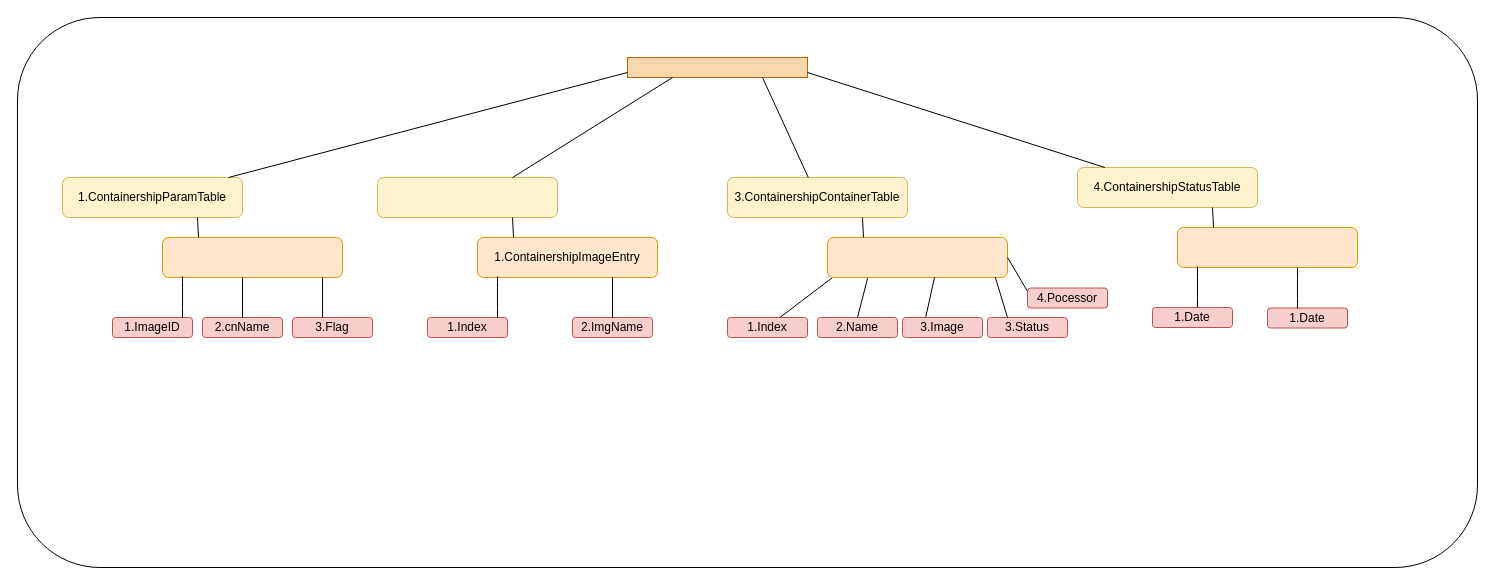
Image size: 1495x585. Some labels were removed from this diagram. Here are the shapes that lost their labels. From the top down, the centre of each, then its label:
At point (717, 67): "Containership MIB".
At point (467, 197): "2.ContainershipImageTable".
At point (252, 257): "1.ContainershipParamEntry".
At point (917, 257): "1.ContainershipContainerEntry".
At point (1267, 247): "1.ContainershipStatusEntry".
